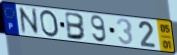2: (139, 20, 159, 49)
3: (115, 18, 135, 47)
9: (89, 14, 108, 44)
B: (65, 11, 88, 41)
N: (17, 6, 41, 36)
O: (39, 9, 61, 38)
